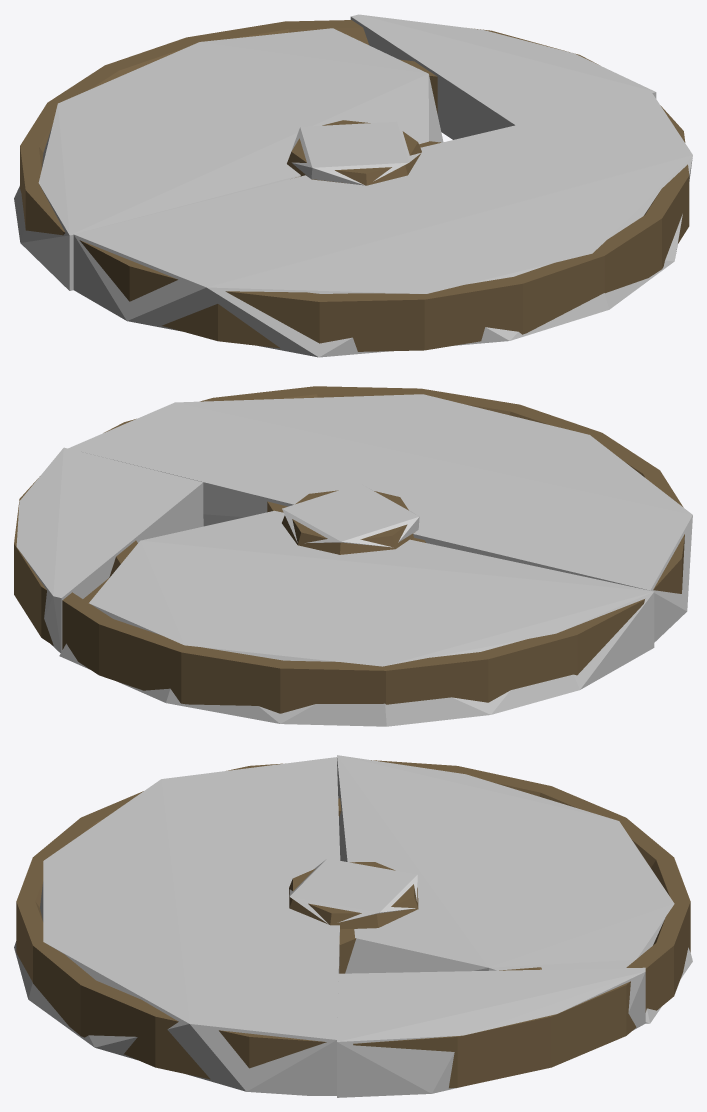
File: SM_Bld_Planetarium_01_Gear_06.fbx
3 renders of one model, top to bottom at view 1: azimuth 30°, elevation 25°; view 2: azimuth 150°, elevation 25°; view 3: azimuth 270°, elevation 25°, orthographic.
Parts seen in each view (by area): view 1: SM_Bld_Planetarium_01_Gear_06_ConvexHulls, SM_Bld_Planetarium_01_Gear_06; view 2: SM_Bld_Planetarium_01_Gear_06_ConvexHulls, SM_Bld_Planetarium_01_Gear_06; view 3: SM_Bld_Planetarium_01_Gear_06_ConvexHulls, SM_Bld_Planetarium_01_Gear_06.
Part boxes in pixels (<box>): SM_Bld_Planetarium_01_Gear_06_ConvexHulls: <box>14,14,692,357</box>; SM_Bld_Planetarium_01_Gear_06: <box>20,20,689,351</box>; SM_Bld_Planetarium_01_Gear_06_ConvexHulls: <box>16,394,692,726</box>; SM_Bld_Planetarium_01_Gear_06: <box>14,386,684,713</box>; SM_Bld_Planetarium_01_Gear_06_ConvexHulls: <box>14,755,692,1097</box>; SM_Bld_Planetarium_01_Gear_06: <box>16,760,690,1088</box>.
Size of the model in its own units: 117 by 117 by 13.11.
Materials: 2 (1 with a texture image).
